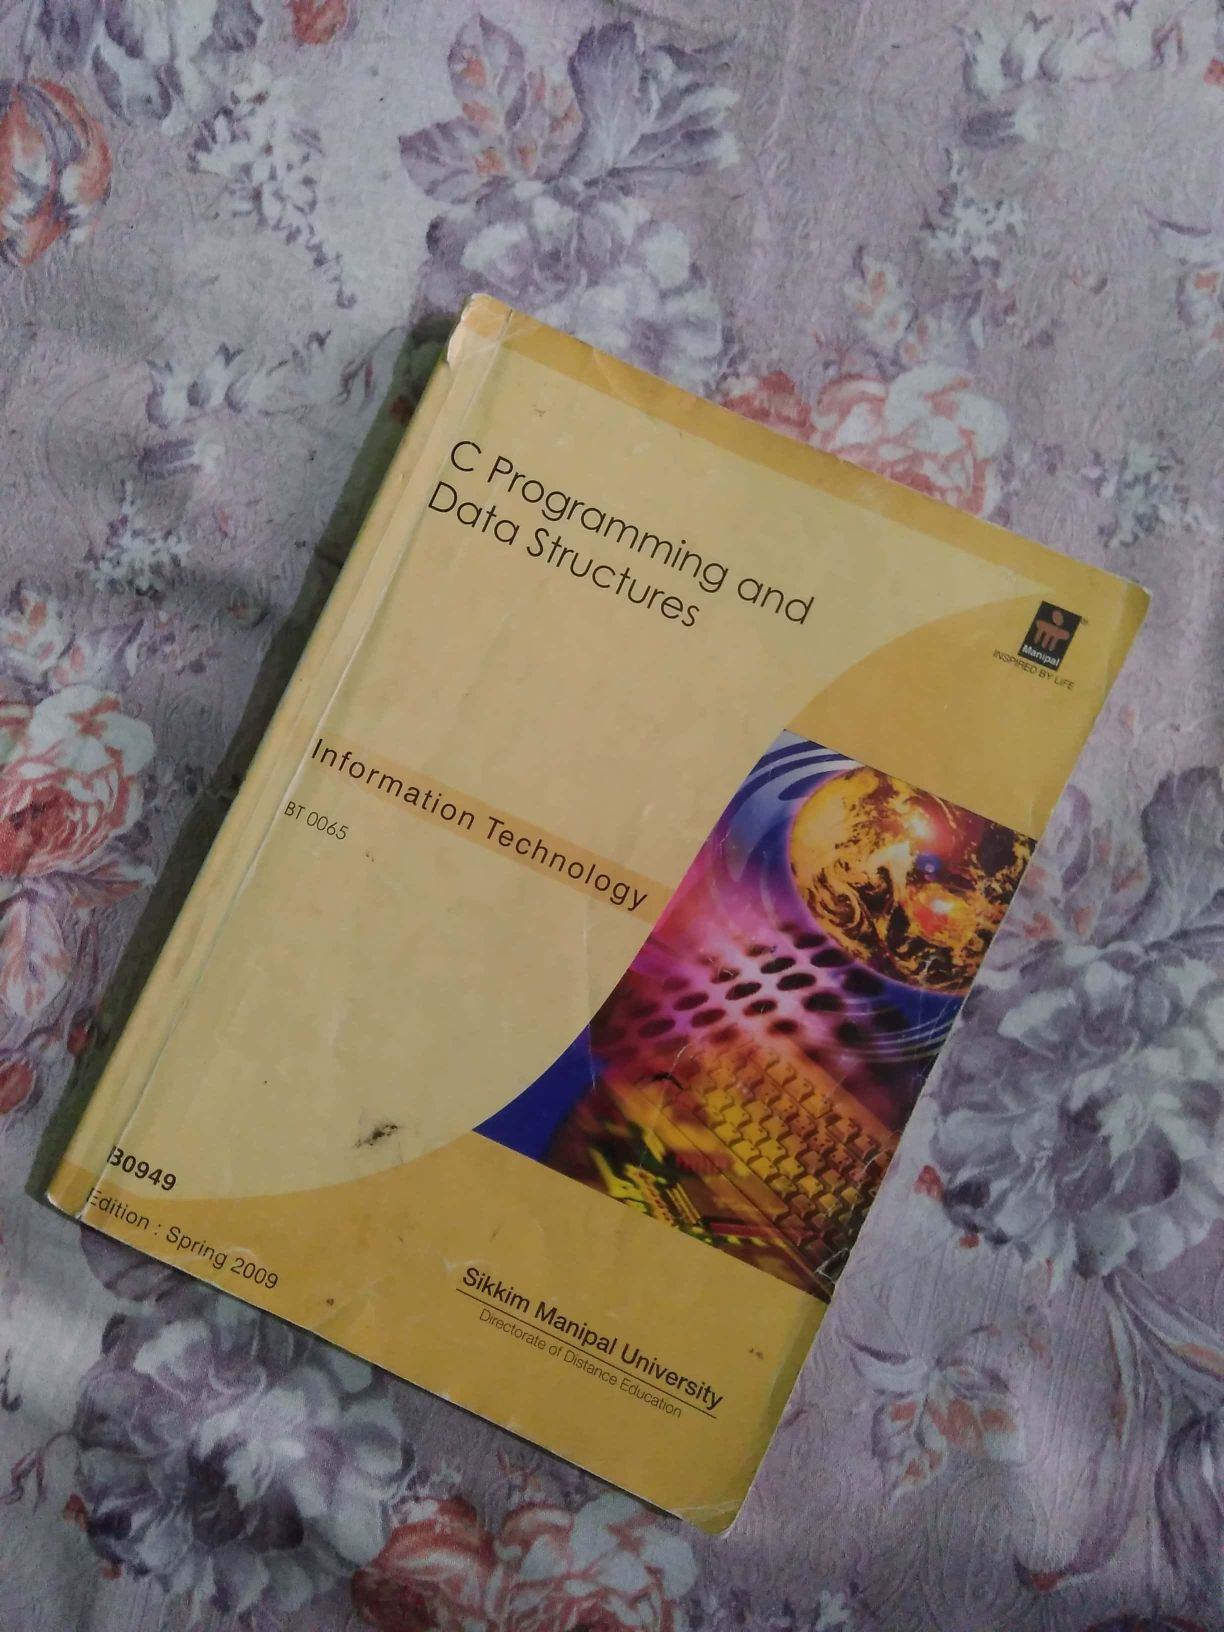clang: (95, 293, 1107, 1536)
